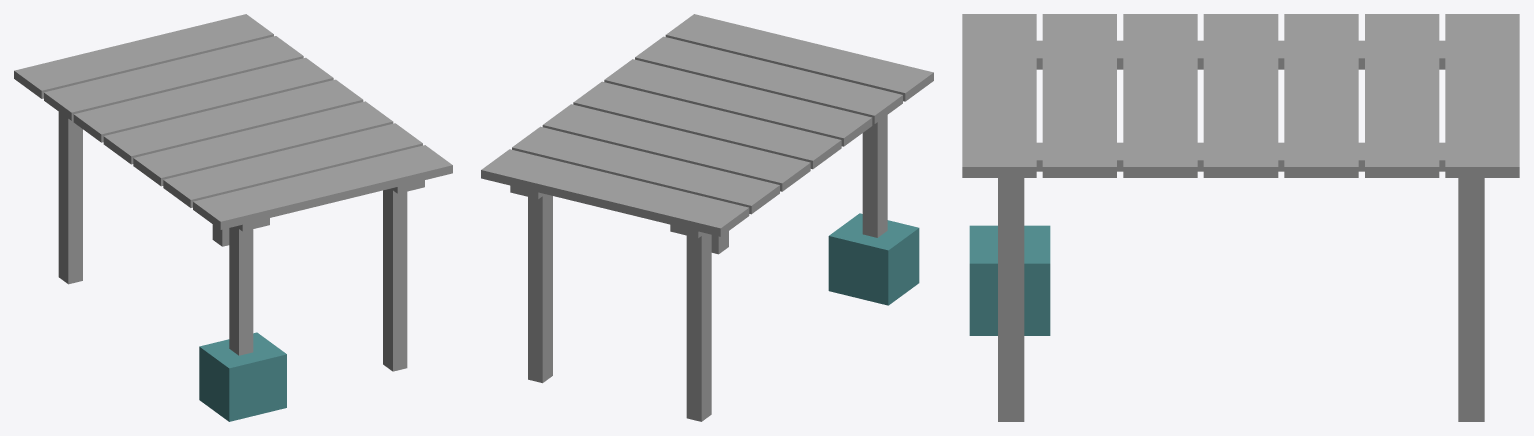
The model's file is Table2_Game.fbx.
3 renders of one model, left to right at view 1: azimuth 30°, elevation 25°; view 2: azimuth 150°, elevation 25°; view 3: azimuth 270°, elevation 25°, orthographic. The views are drawn at different scales.
Visible parts, largest first — view 1: polySurface4908; view 2: polySurface4908; view 3: polySurface4908.
Boxes of the visible parts, x1,y1,x2,y2 form: polySurface4908: (14,14,452,421); polySurface4908: (481,14,933,421); polySurface4908: (962,14,1519,421).
Bounding box in the file's own units: 60.68 × 51.16 × 93.47.
